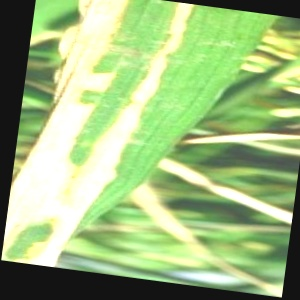Leaf_Blast: (51, 0, 189, 221)
